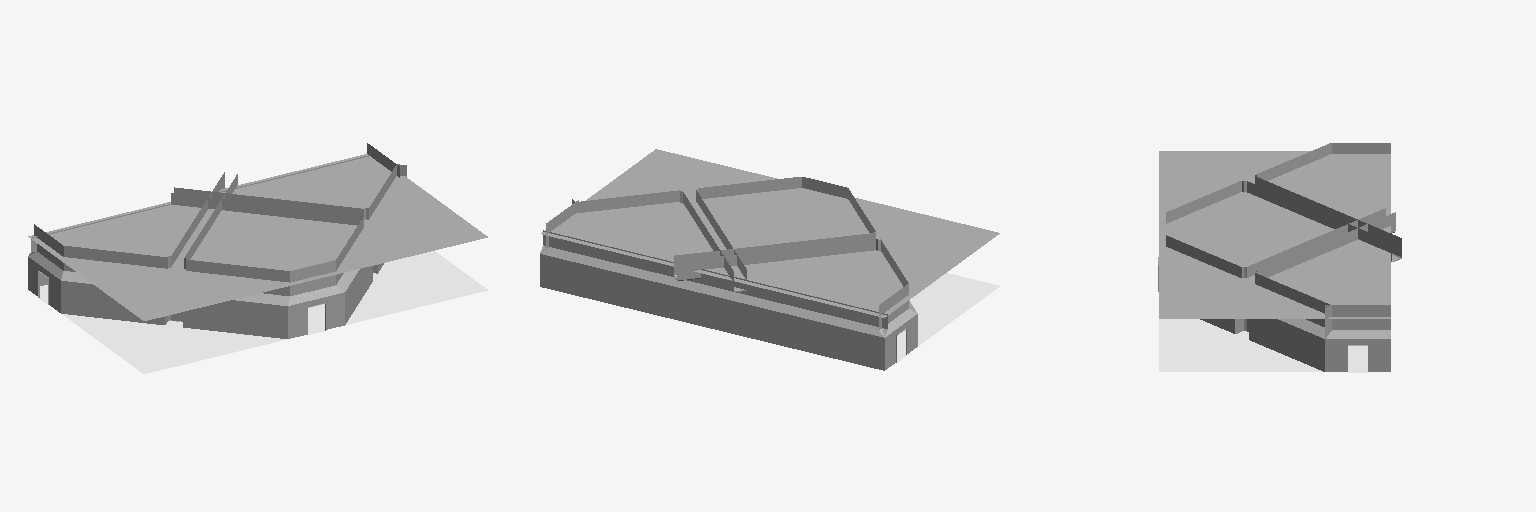
File: T-Cross-Type-0.obj
3 views of the same model, side by side, from view 1: azimuth 30°, elevation 25°; view 2: azimuth 150°, elevation 25°; view 3: azimuth 270°, elevation 25° (orthographic).
Parts seen in each view (by area): view 1: T-Cross-Type-0; view 2: T-Cross-Type-0; view 3: T-Cross-Type-0.
Part boxes in pixels (x1,y1,x2,y2): T-Cross-Type-0: (28, 143, 487, 373); T-Cross-Type-0: (540, 149, 999, 370); T-Cross-Type-0: (1158, 143, 1401, 372).
Bounding box in the file's own units: 30.2 × 5.35 × 18.41.